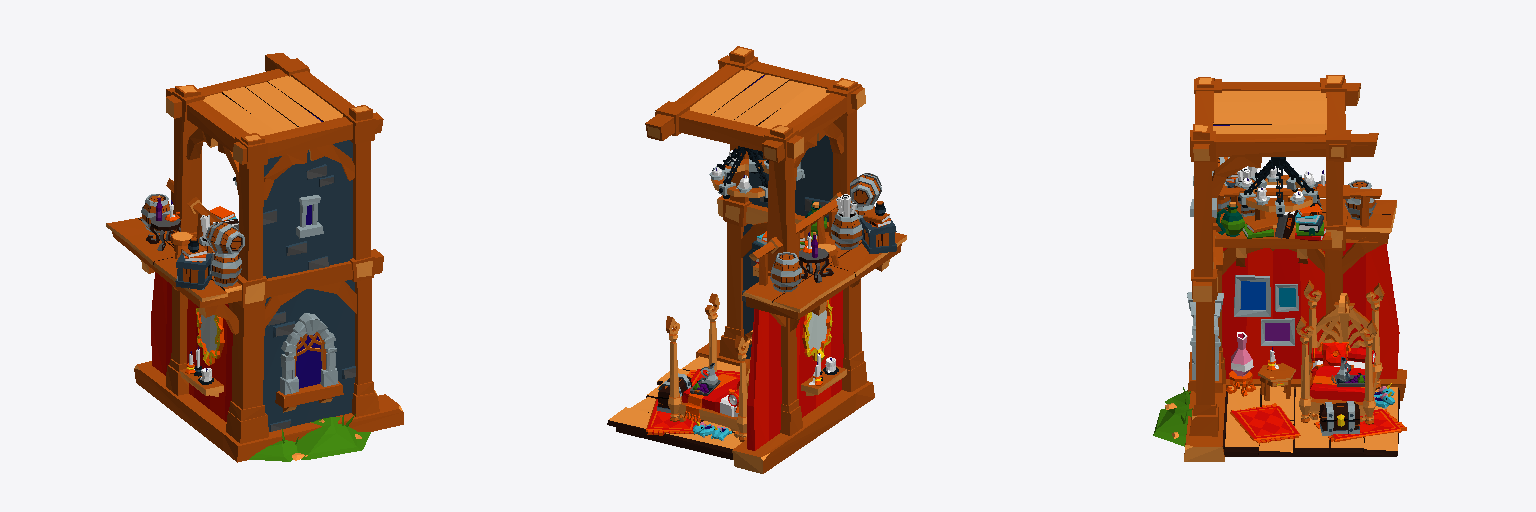
The picture shows the model from 3 angles: view 1: azimuth 30°, elevation 25°; view 2: azimuth 150°, elevation 25°; view 3: azimuth 270°, elevation 25°; orthographic projection.
Parts seen in each view (by area): view 1: group[number redacted], group[number redacted], group[number redacted], group[number redacted], group[number redacted], group[number redacted], group[number redacted], group[number redacted], group[number redacted], group[number redacted], group[number redacted], group[number redacted] (+22 smaller); view 2: group[number redacted], group[number redacted], group[number redacted], group[number redacted], group[number redacted], group[number redacted], group[number redacted], group[number redacted], group[number redacted], group[number redacted], group[number redacted], group[number redacted] (+21 smaller); view 3: group[number redacted], group[number redacted], group[number redacted], group[number redacted], group[number redacted], group[number redacted], group[number redacted], group[number redacted], group[number redacted], group[number redacted], group[number redacted], group[number redacted] (+28 smaller).
Boxes of the visible parts, x1,y1,x2,y2 form: group[number redacted]: [134, 302, 403, 462]; group[number redacted]: [263, 140, 354, 278]; group[number redacted]: [263, 280, 354, 431]; group[number redacted]: [265, 249, 383, 416]; group[number redacted]: [275, 313, 343, 412]; group[number redacted]: [151, 272, 232, 421]; group[number redacted]: [239, 163, 263, 280]; group[number redacted]: [173, 85, 201, 232]; group[number redacted]: [233, 117, 352, 164]; group[number redacted]: [353, 141, 370, 259]; group[number redacted]: [296, 417, 370, 459]; group[number redacted]: [166, 88, 248, 151]; group[number redacted]: [747, 290, 843, 450]; group[number redacted]: [696, 280, 874, 473]; group[number redacted]: [666, 293, 752, 441]; group[number redacted]: [717, 195, 828, 360]; group[number redacted]: [767, 125, 795, 271]; group[number redacted]: [749, 135, 832, 221]; group[number redacted]: [679, 110, 803, 158]; group[number redacted]: [709, 146, 768, 201]; group[number redacted]: [762, 93, 846, 162]; group[number redacted]: [607, 407, 741, 453]; group[number redacted]: [772, 265, 854, 312]; group[number redacted]: [833, 110, 856, 209]; group[number redacted]: [1222, 243, 1399, 378]; group[number redacted]: [1296, 280, 1384, 424]; group[number redacted]: [1189, 230, 1223, 436]; group[number redacted]: [1216, 133, 1378, 156]; group[number redacted]: [1234, 275, 1298, 345]; group[number redacted]: [1238, 157, 1318, 216]; group[number redacted]: [1184, 271, 1406, 461]; group[number redacted]: [1194, 162, 1212, 276]; group[number redacted]: [1230, 403, 1300, 444]; group[number redacted]: [1215, 228, 1331, 266]; group[number redacted]: [1224, 386, 1260, 452]; group[number redacted]: [1325, 75, 1344, 225].
Bounding box in the file's own units: 5.7 × 8.32 × 5.97.